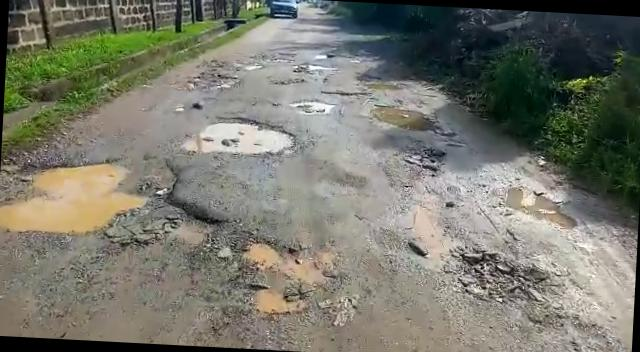pothole: (0, 150, 229, 248), (210, 236, 342, 320), (449, 246, 556, 309), (180, 112, 308, 160), (488, 182, 582, 231), (367, 104, 441, 134), (391, 140, 446, 172), (170, 71, 240, 96), (286, 97, 334, 114), (318, 87, 367, 98)
